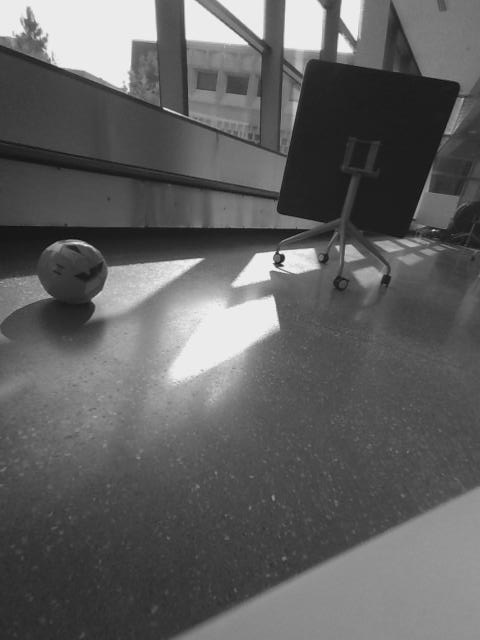ball: (34, 236, 110, 306)
